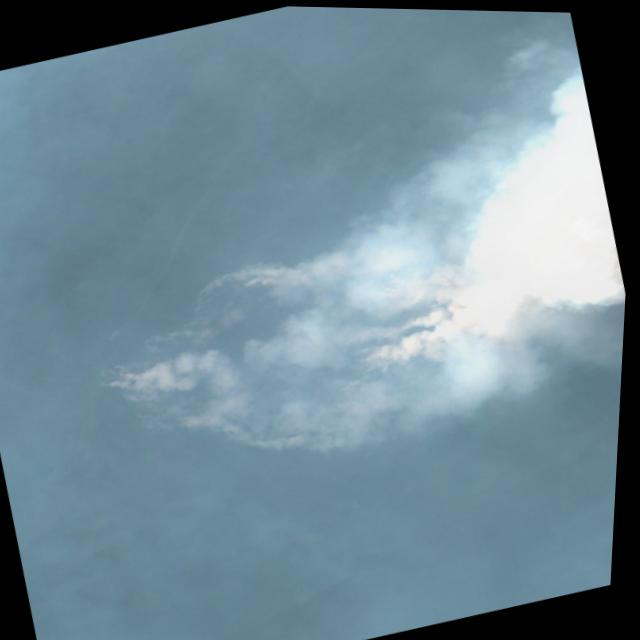fire: (74, 202, 515, 494)
